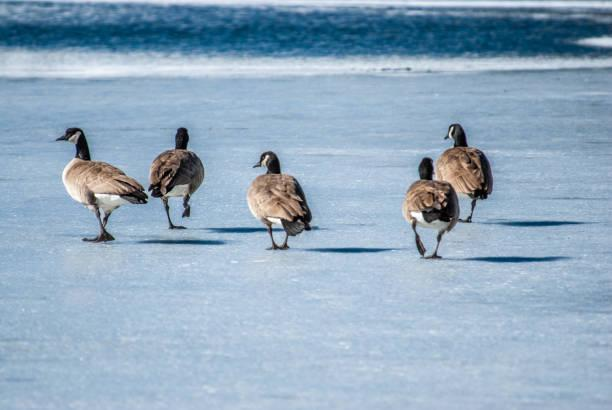Canadian-Goose: (53, 125, 145, 241), (243, 150, 314, 249), (402, 155, 461, 257), (149, 124, 206, 229), (436, 124, 496, 217)
